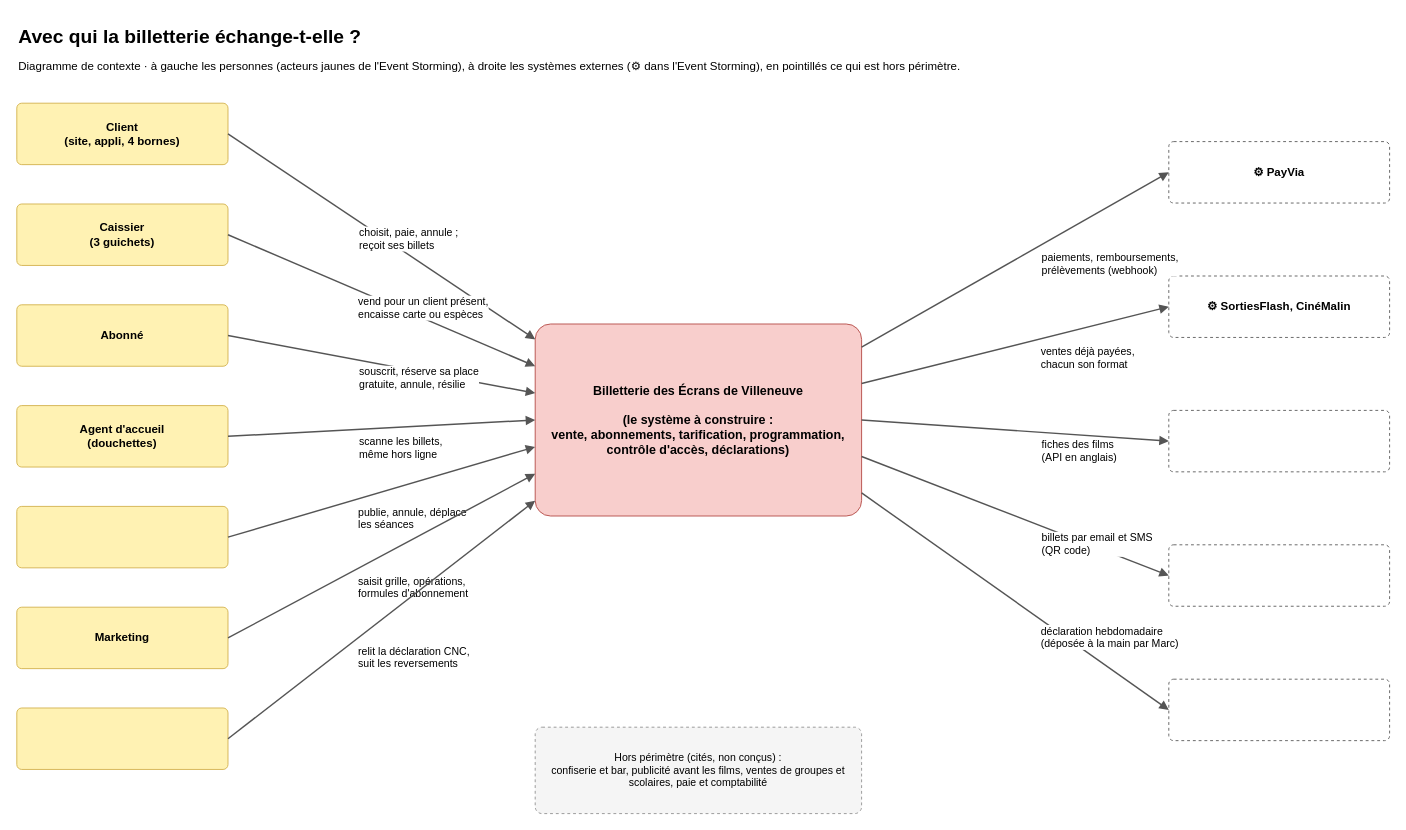
Image size: 1406x830. Some labels were removed from this diagram. Each missing label, with the centre of its shape:
"Programmateur" goes at point (122, 536).
"Responsable financier" goes at point (122, 738).
"⚙ FilmoData" goes at point (1279, 440).
"⚙ Portail du CNC" goes at point (1279, 709).
"⚙ Service d'envoi" goes at point (1279, 575).
